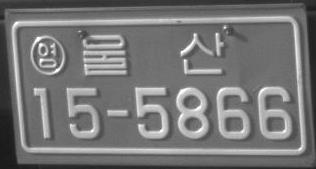-: (106, 107, 130, 119)
1: (28, 87, 61, 139)
5: (63, 86, 103, 139), (134, 86, 171, 140)
6: (256, 85, 294, 141), (215, 85, 251, 140)
8: (174, 85, 211, 139)
영: (29, 34, 65, 75)
울산_D: (81, 31, 224, 76)
